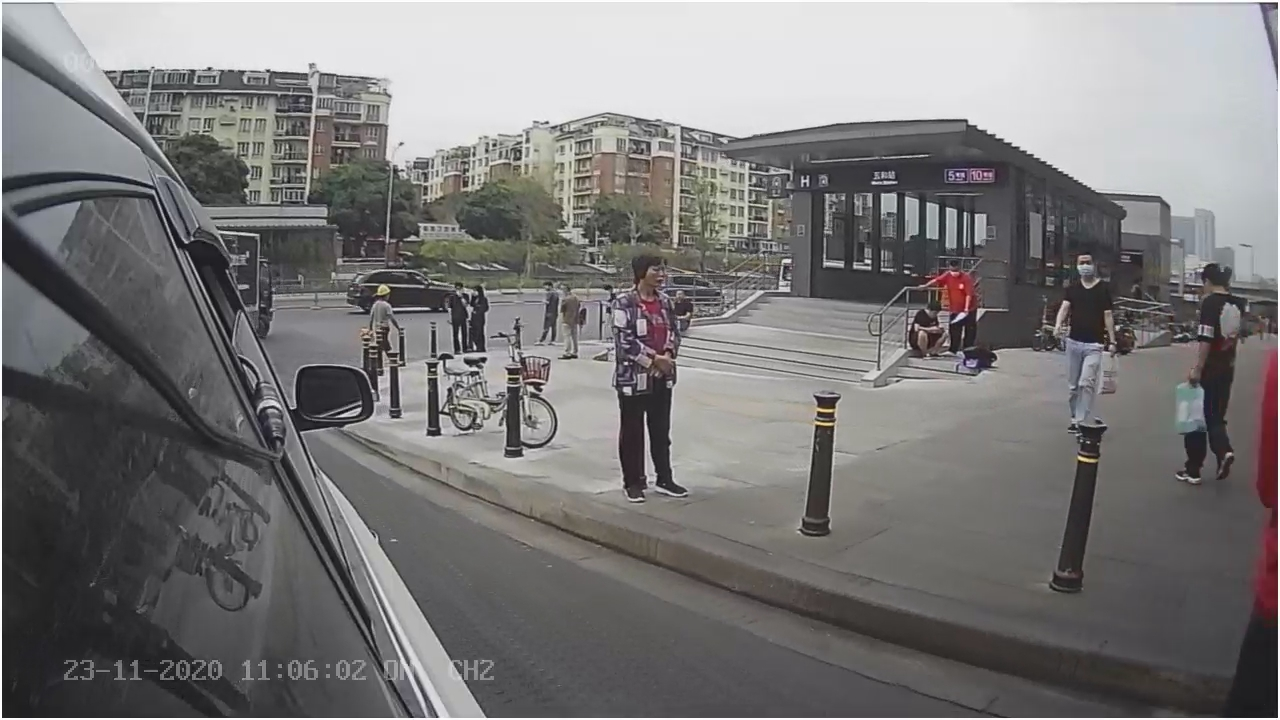person: (599, 247, 702, 503)
